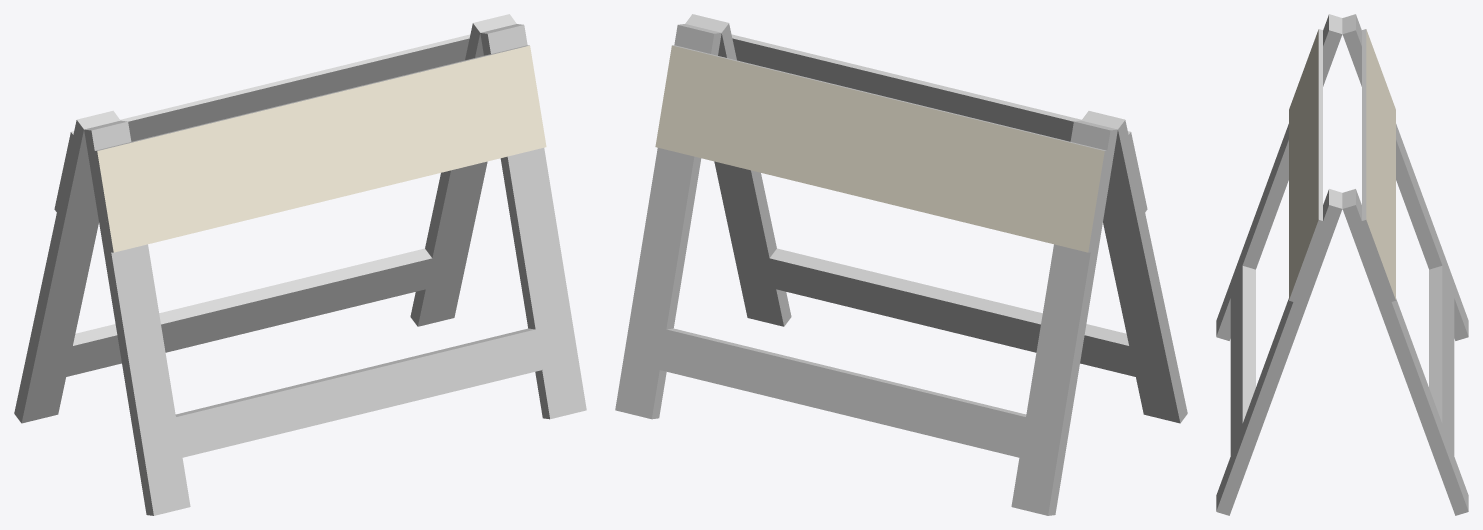
Rendered from Barrier.fbx.
The picture shows the model from 3 angles, left to right: view 1: azimuth 30°, elevation 25°; view 2: azimuth 150°, elevation 25°; view 3: azimuth 270°, elevation 25°; orthographic projection. The views are drawn at different scales.
Visible parts, largest first — view 1: Barrier; view 2: Barrier; view 3: Barrier.
Boxes of the visible parts, box(x1,y1,x2,y2) form: Barrier: box(14, 14, 586, 515); Barrier: box(615, 14, 1187, 515); Barrier: box(1216, 14, 1468, 515).
Size of the model in its own units: 96.07 by 72.95 by 53.69.
